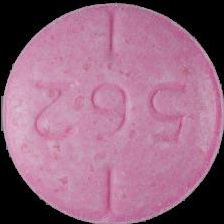10544-261: (0, 0, 224, 224)
